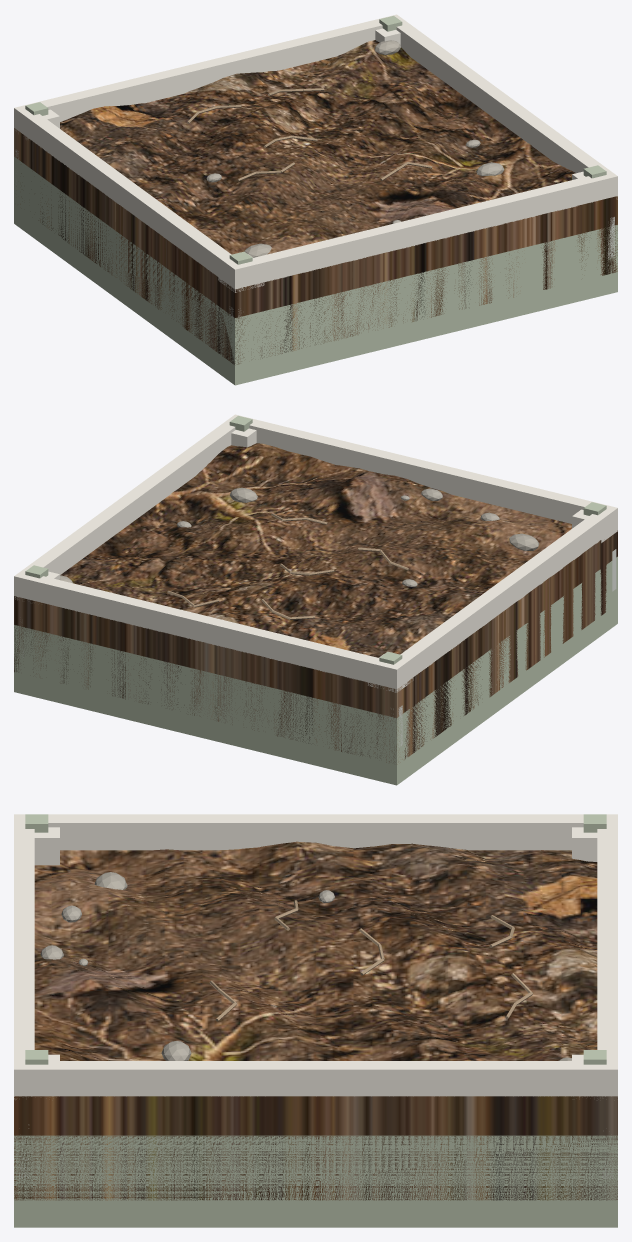
File: s03-untreated-quarter-se.glb
The picture shows the model from 3 angles, top to bottom: view 1: azimuth 30°, elevation 25°; view 2: azimuth 150°, elevation 25°; view 3: azimuth 270°, elevation 25°; orthographic projection. The views are drawn at different scales.
Parts seen in each view (by area): view 1: S03_Physical_Untreated_Soil_Top_RealRelief, S03_Frame_Sage_Solid_Bottom, S03_Cream_Rim_N, S03_Cream_Rim_S, S03_Cream_Rim_W, S03_Cream_Rim_E; view 2: S03_Physical_Untreated_Soil_Top_RealRelief, S03_Frame_Sage_Solid_Bottom, S03_Cream_Rim_S, S03_Cream_Rim_N, S03_Cream_Rim_W, S03_Cream_Rim_E, S03_Cream_Protective_Corner_0_1; view 3: S03_Physical_Untreated_Soil_Top_RealRelief, S03_Frame_Sage_Solid_Bottom, S03_Cream_Rim_E, S03_Cream_Rim_W, S03_Cream_Rim_S, S03_Cream_Rim_N, S03_Cream_Protective_Corner_0_1, S03_Cream_Protective_Corner_0_0.
Part boxes in pixels (x1,y1,x2,y2): S03_Physical_Untreated_Soil_Top_RealRelief: (14, 40, 617, 364); S03_Frame_Sage_Solid_Bottom: (14, 156, 617, 385); S03_Cream_Rim_N: (227, 173, 617, 289); S03_Cream_Rim_S: (14, 14, 403, 132); S03_Cream_Rim_W: (14, 105, 247, 288); S03_Cream_Rim_E: (384, 15, 617, 198); S03_Physical_Untreated_Soil_Top_RealRelief: (14, 443, 617, 764); S03_Frame_Sage_Solid_Bottom: (14, 556, 617, 785); S03_Cream_Rim_S: (14, 574, 404, 689); S03_Cream_Rim_N: (228, 414, 617, 527); S03_Cream_Rim_W: (384, 505, 617, 688); S03_Cream_Rim_E: (14, 415, 245, 598); S03_Cream_Protective_Corner_0_1: (572, 509, 617, 542); S03_Physical_Untreated_Soil_Top_RealRelief: (14, 841, 617, 1200); S03_Frame_Sage_Solid_Bottom: (14, 1135, 617, 1227); S03_Cream_Rim_E: (14, 1061, 617, 1096); S03_Cream_Rim_W: (14, 814, 617, 850); S03_Cream_Rim_S: (597, 814, 617, 1096); S03_Cream_Rim_N: (14, 814, 34, 1096); S03_Cream_Protective_Corner_0_1: (34, 827, 59, 865); S03_Cream_Protective_Corner_0_0: (572, 827, 597, 861).
Bounding box in the file's own units: 0.5 × 0.149 × 0.5.
8 materials, 1 textured.
